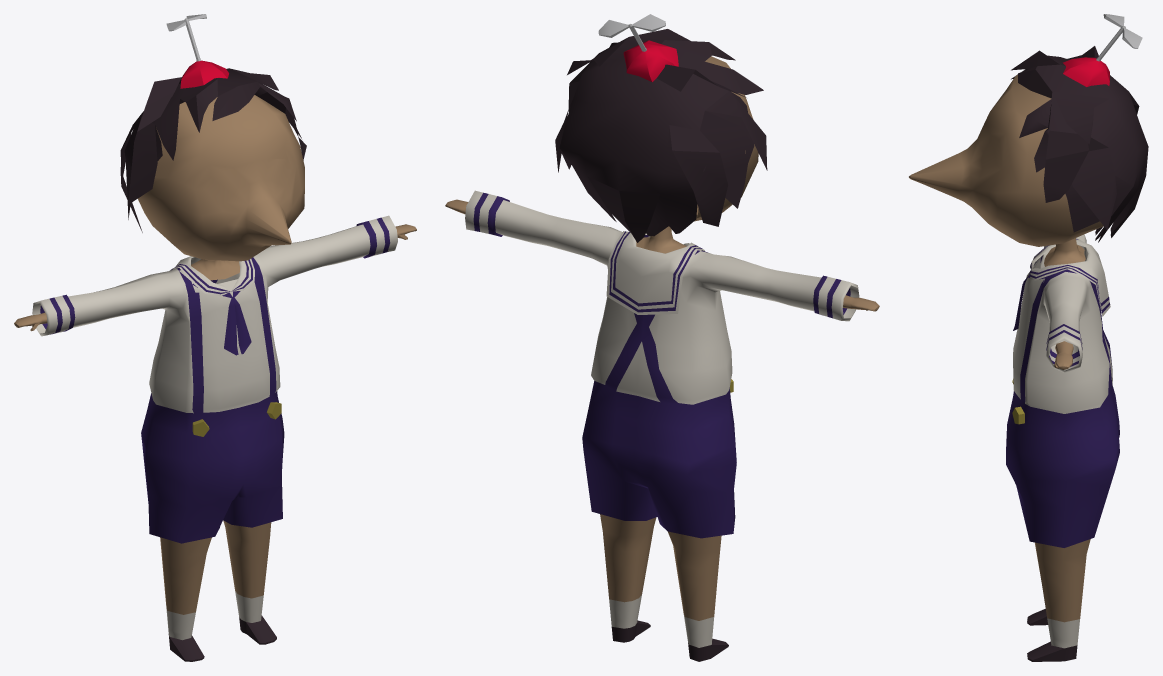
The model's file is protag.fbx.
3 renders of one model, left to right at view 1: azimuth 30°, elevation 25°; view 2: azimuth 150°, elevation 25°; view 3: azimuth 270°, elevation 25°, orthographic. The views are drawn at different scales.
Visible parts, largest first — view 1: combined; view 2: combined; view 3: combined.
Part boxes in pixels (x1,y1,x2,y2): combined: (14, 14, 416, 661); combined: (445, 14, 879, 661); combined: (909, 14, 1148, 661).
Size of the model in its own units: 27.17 by 39.28 by 13.81.
